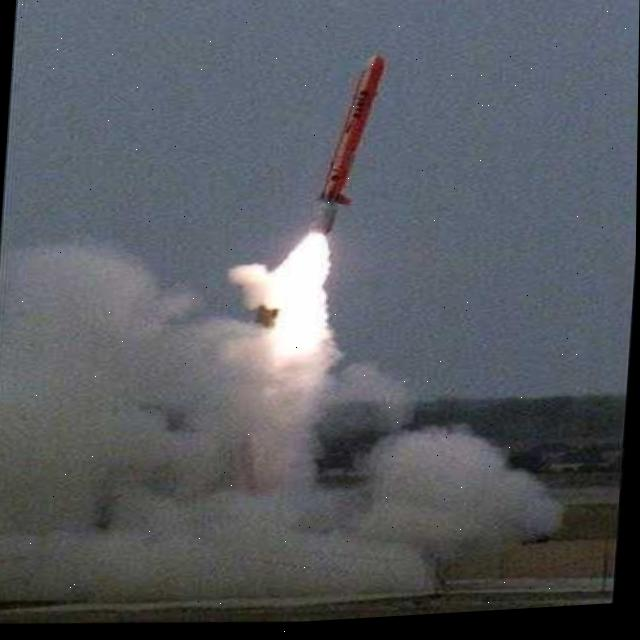missile: (298, 49, 380, 267)
